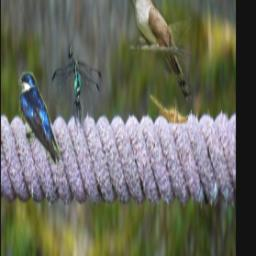Cuckoo: (119, 0, 193, 103), (150, 96, 188, 125)
Swallow: (18, 72, 61, 163)
